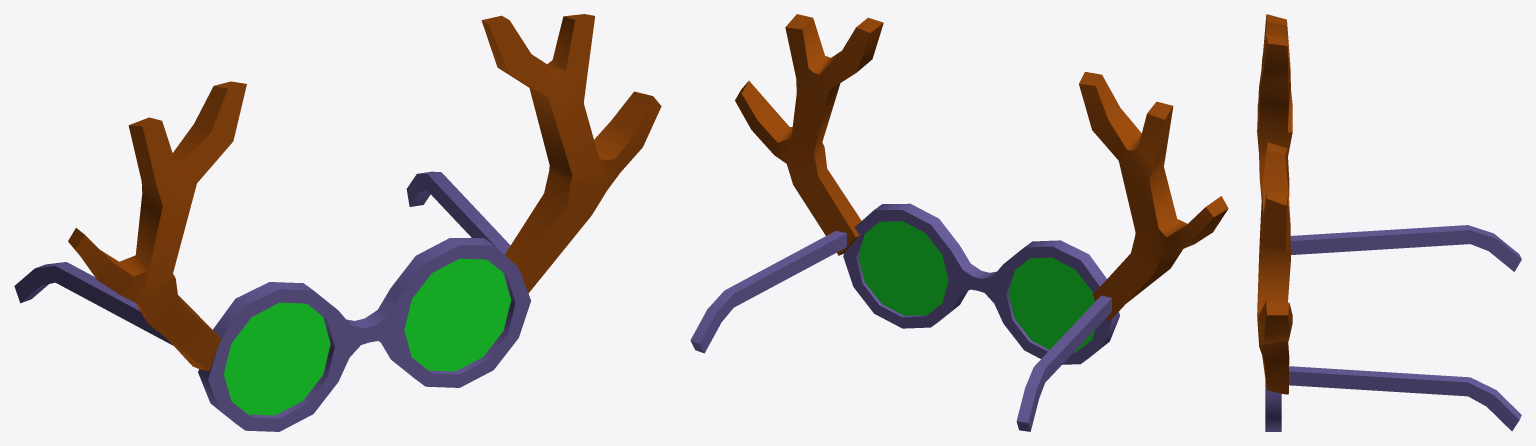
File: Horned_glasses.fbx
The picture shows the model from 3 angles, left to right: view 1: azimuth 30°, elevation 25°; view 2: azimuth 150°, elevation 25°; view 3: azimuth 270°, elevation 25°; orthographic projection. The views are drawn at different scales.
Visible parts, largest first — view 1: Horned_glasses.c, Glasses_stick_39, Glasses_stick_40; view 2: Horned_glasses.c, Glasses_stick_40, Glasses_stick_39; view 3: Horned_glasses.c, Glasses_stick_40, Glasses_stick_39.
Part boxes in pixels (bbox=[...]): Horned_glasses.c: bbox=[68, 14, 661, 431]; Glasses_stick_39: bbox=[14, 262, 173, 345]; Glasses_stick_40: bbox=[406, 171, 510, 254]; Horned_glasses.c: bbox=[735, 14, 1228, 364]; Glasses_stick_40: bbox=[690, 230, 846, 353]; Glasses_stick_39: bbox=[1016, 295, 1111, 431]; Horned_glasses.c: bbox=[1257, 14, 1292, 431]; Glasses_stick_40: bbox=[1289, 366, 1521, 431]; Glasses_stick_39: bbox=[1290, 225, 1521, 271].
Size of the model in its own units: 1.02 by 0.5903 by 0.4774.
